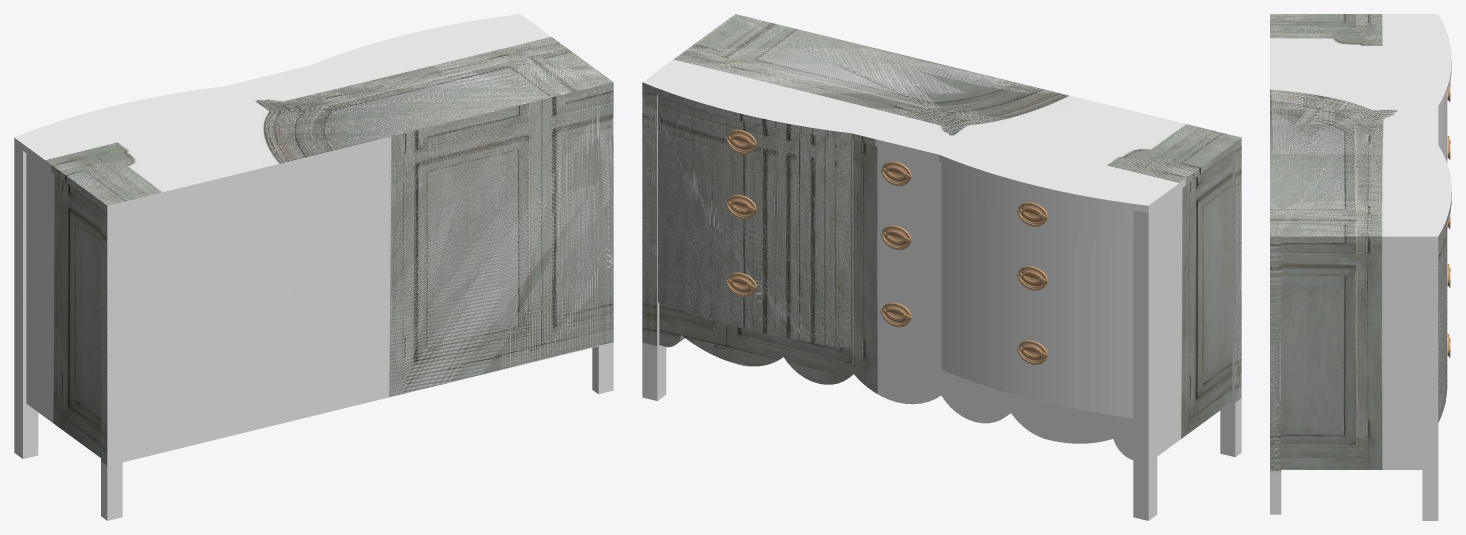
The picture shows the model from 3 angles, left to right: view 1: azimuth 30°, elevation 25°; view 2: azimuth 150°, elevation 25°; view 3: azimuth 270°, elevation 25°; orthographic projection. The views are drawn at different scales.
Visible parts, largest first — view 1: mesh19_mesh19-geometry; view 2: mesh19_mesh19-geometry, mesh2_mesh2-geometry, mesh1_mesh1-geometry; view 3: mesh19_mesh19-geometry, mesh2_mesh2-geometry.
Boxes of the visible parts, x1,y1,x2,y2 form: mesh19_mesh19-geometry: (14,14,613,520); mesh19_mesh19-geometry: (642,14,1241,520); mesh2_mesh2-geometry: (727,129,1047,362); mesh1_mesh1-geometry: (725,136,1047,364); mesh19_mesh19-geometry: (1270,14,1451,520); mesh2_mesh2-geometry: (1447,83,1450,356).
Size of the model in its own units: 0.824 by 0.4902 by 0.2841.
